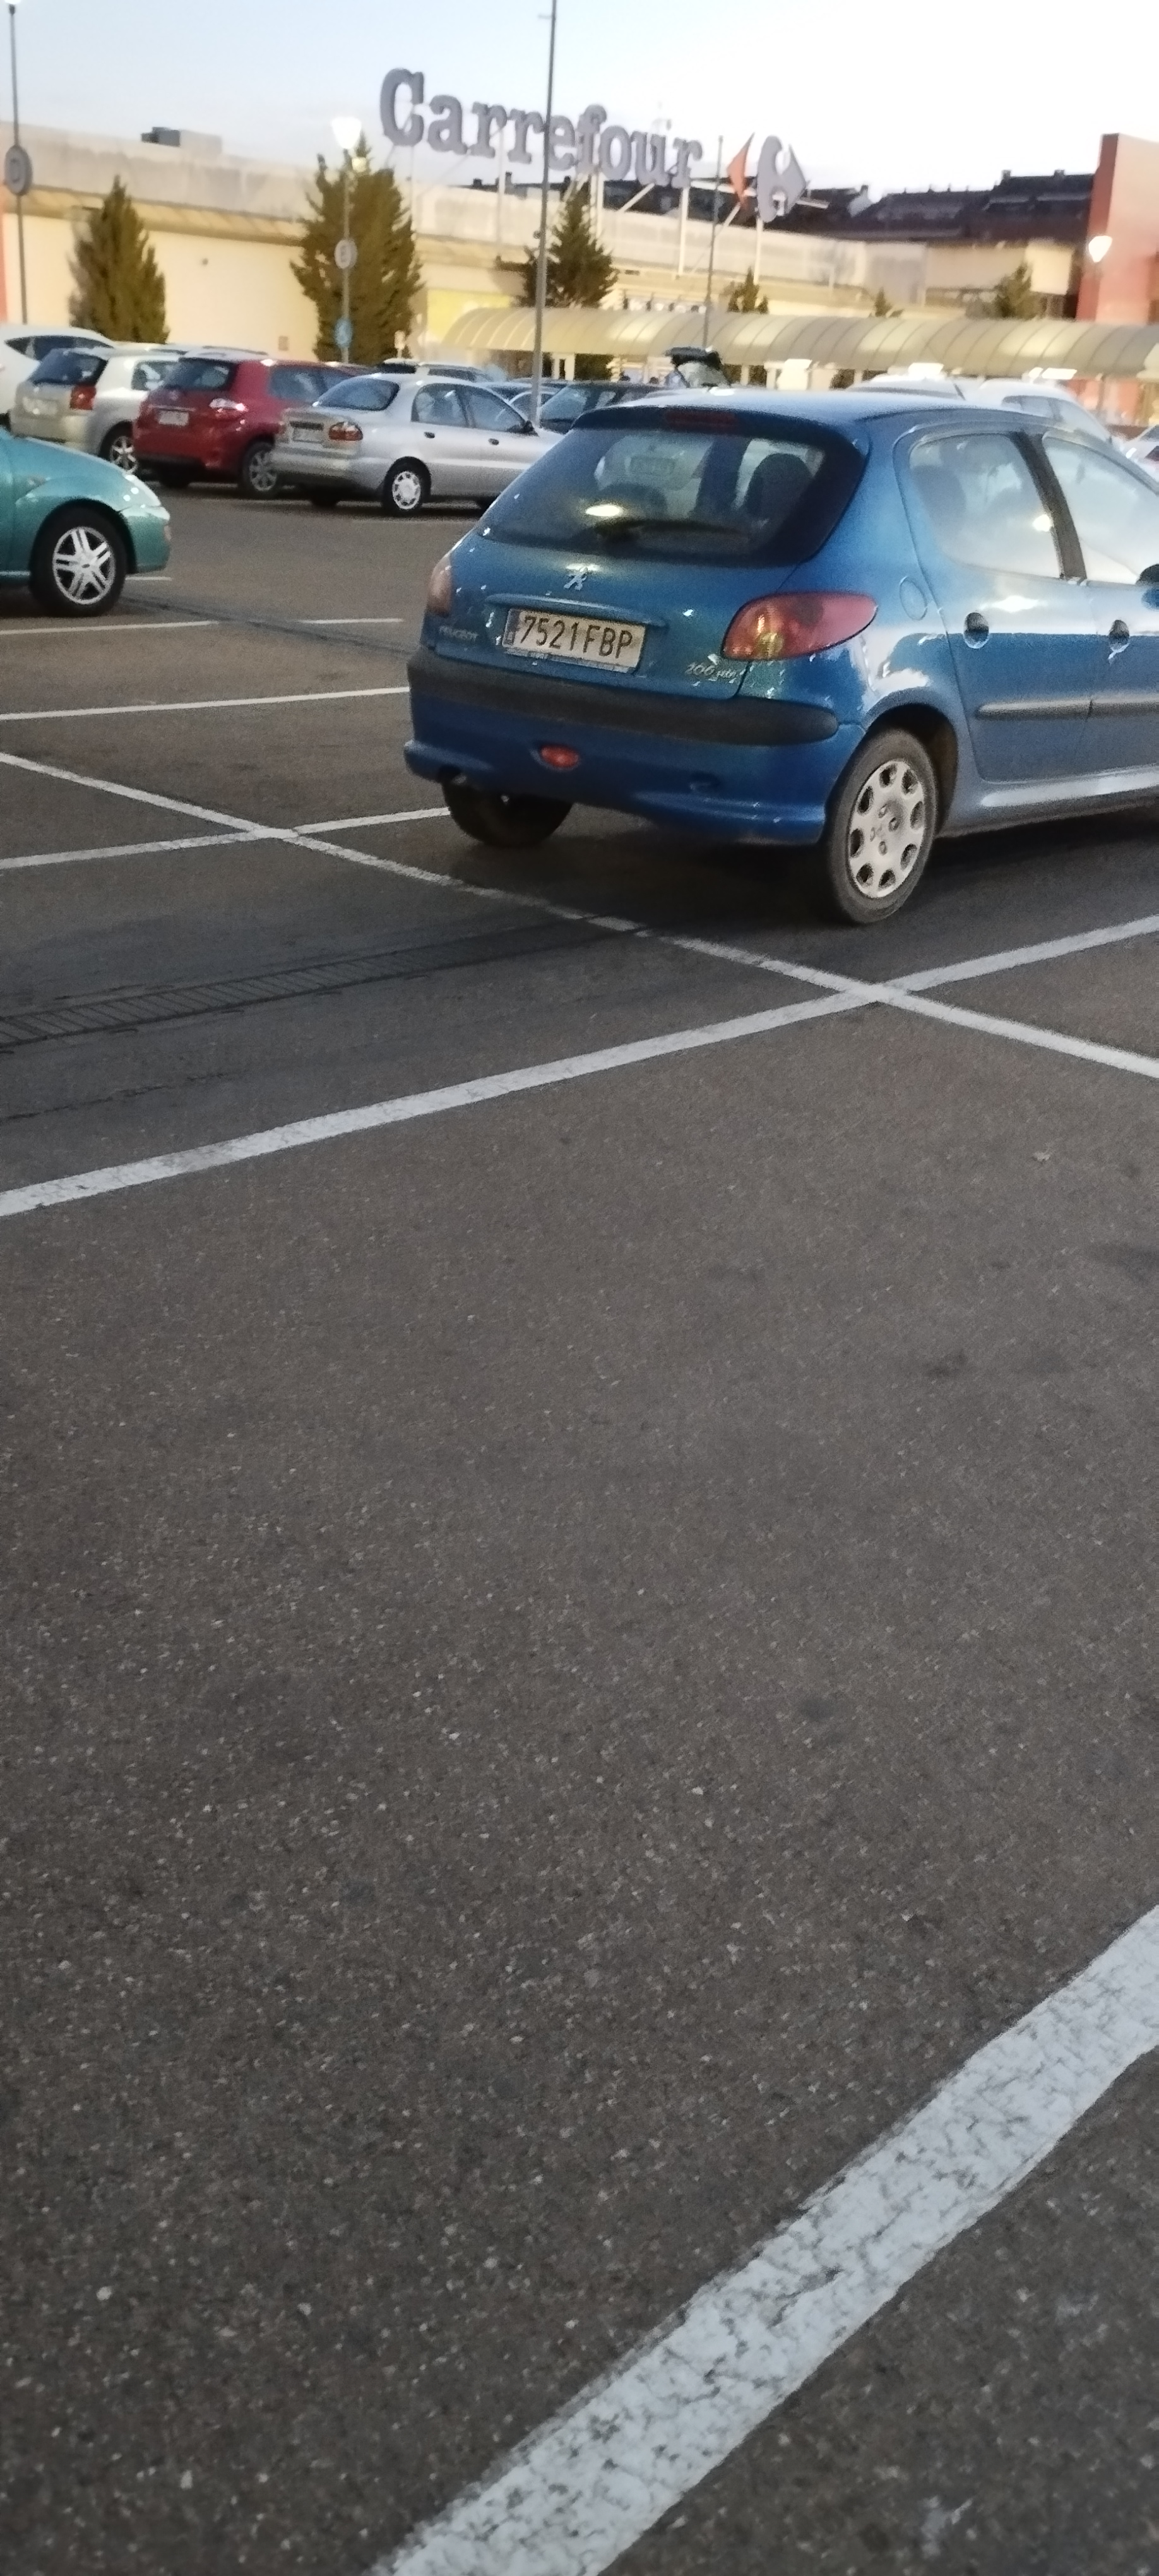Car: (403, 387, 1158, 924)
Plate: (503, 602, 644, 650)
